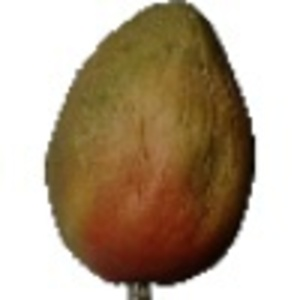mamão: (31, 3, 263, 286)
